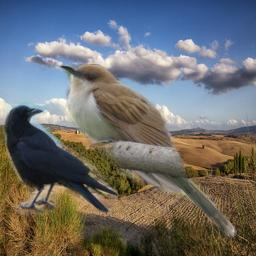Crow: (3, 100, 118, 217)
Cuckoo: (58, 64, 237, 238)
